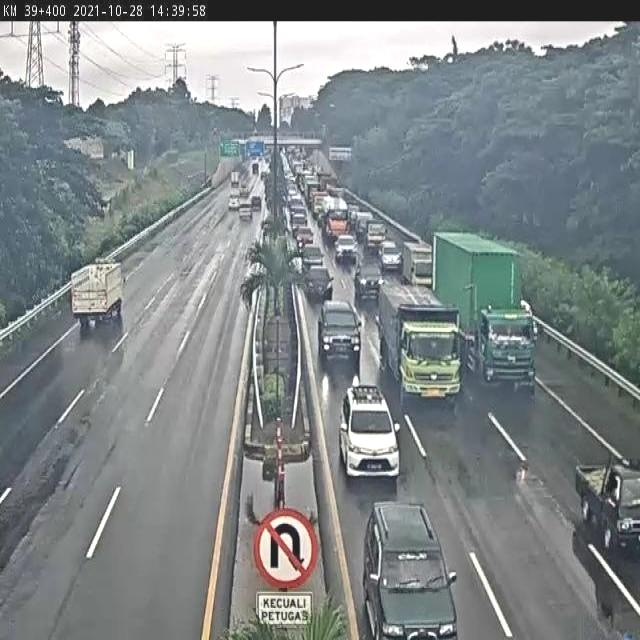Car: (361, 502, 458, 639), (338, 385, 402, 479), (316, 300, 362, 364), (355, 257, 384, 302), (304, 265, 334, 302), (379, 241, 403, 273), (334, 233, 358, 264), (301, 245, 325, 274), (295, 225, 315, 247), (290, 212, 308, 236), (238, 201, 253, 219), (250, 196, 262, 210)
Truck: (432, 230, 538, 391), (376, 282, 463, 402), (576, 453, 640, 559), (70, 258, 126, 328), (402, 241, 436, 285), (321, 197, 350, 239), (364, 221, 386, 252), (355, 211, 374, 241), (311, 191, 329, 217), (305, 180, 320, 205), (230, 171, 240, 187)
Van: (227, 191, 241, 211)
